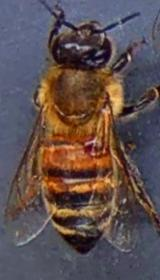varroa_mite: (75, 126, 110, 158)
